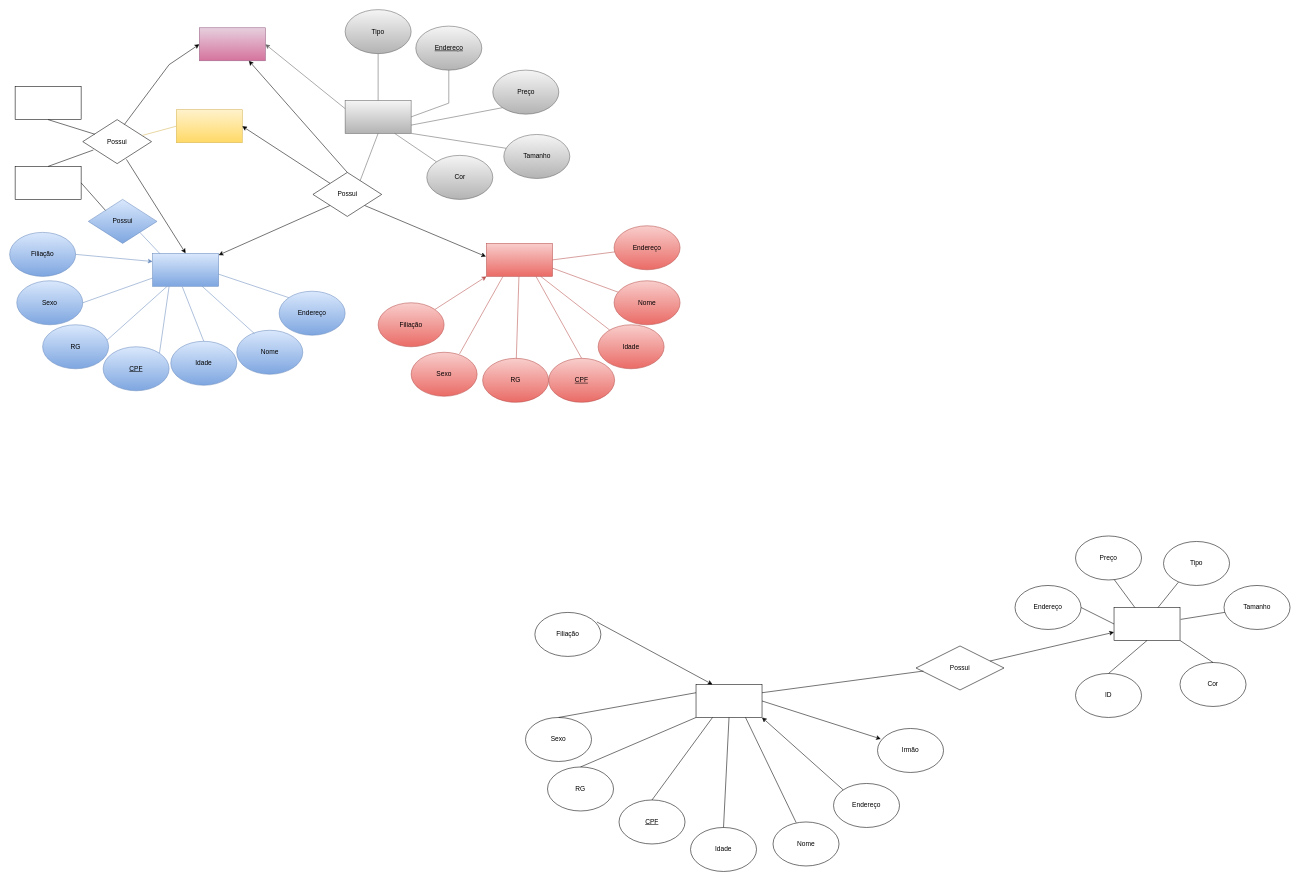
Some shapes in this 1300 by 881 pixel diagram are drawn without their labels. Here are the shapes that lost their labels. From the top down, the centre of each, then its label:
At pixel 232 44: "Salas".
At pixel 48 103: "Matrícula".
At pixel 378 116: "Universidade".
At pixel 209 126: "Cursos".
At pixel 48 182: "Grade curricular".
At pixel 185 269: "Alunos".
At pixel 519 259: "Funcionários".
At pixel 1146 623: "Imóvel".
At pixel 728 700: "Pessoa".
